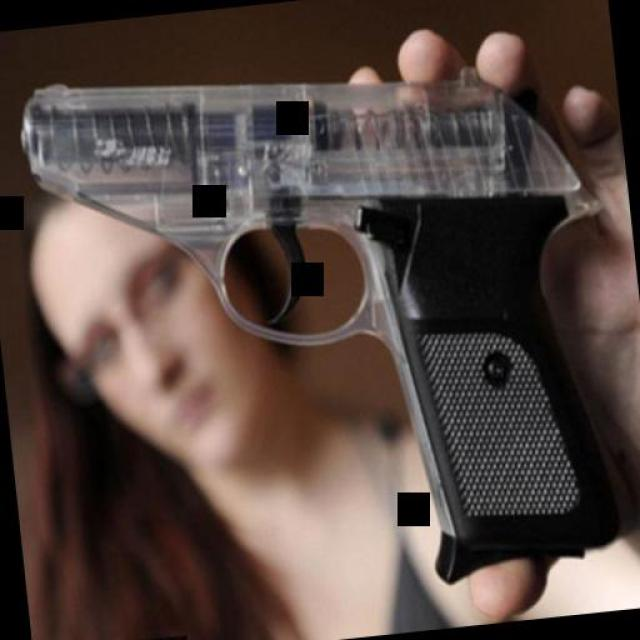gun: (9, 24, 640, 624)
